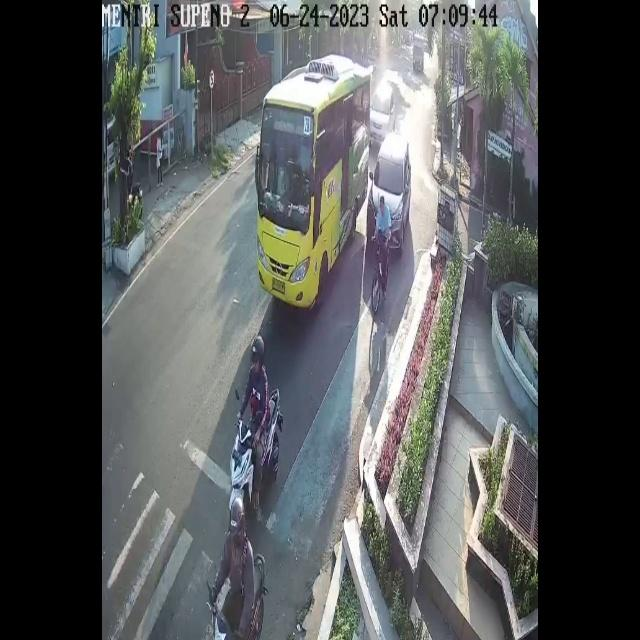bus: (232, 386, 284, 524), (207, 554, 269, 640)
car: (257, 55, 370, 302)
motorcycle: (370, 134, 411, 252), (366, 80, 396, 145)
